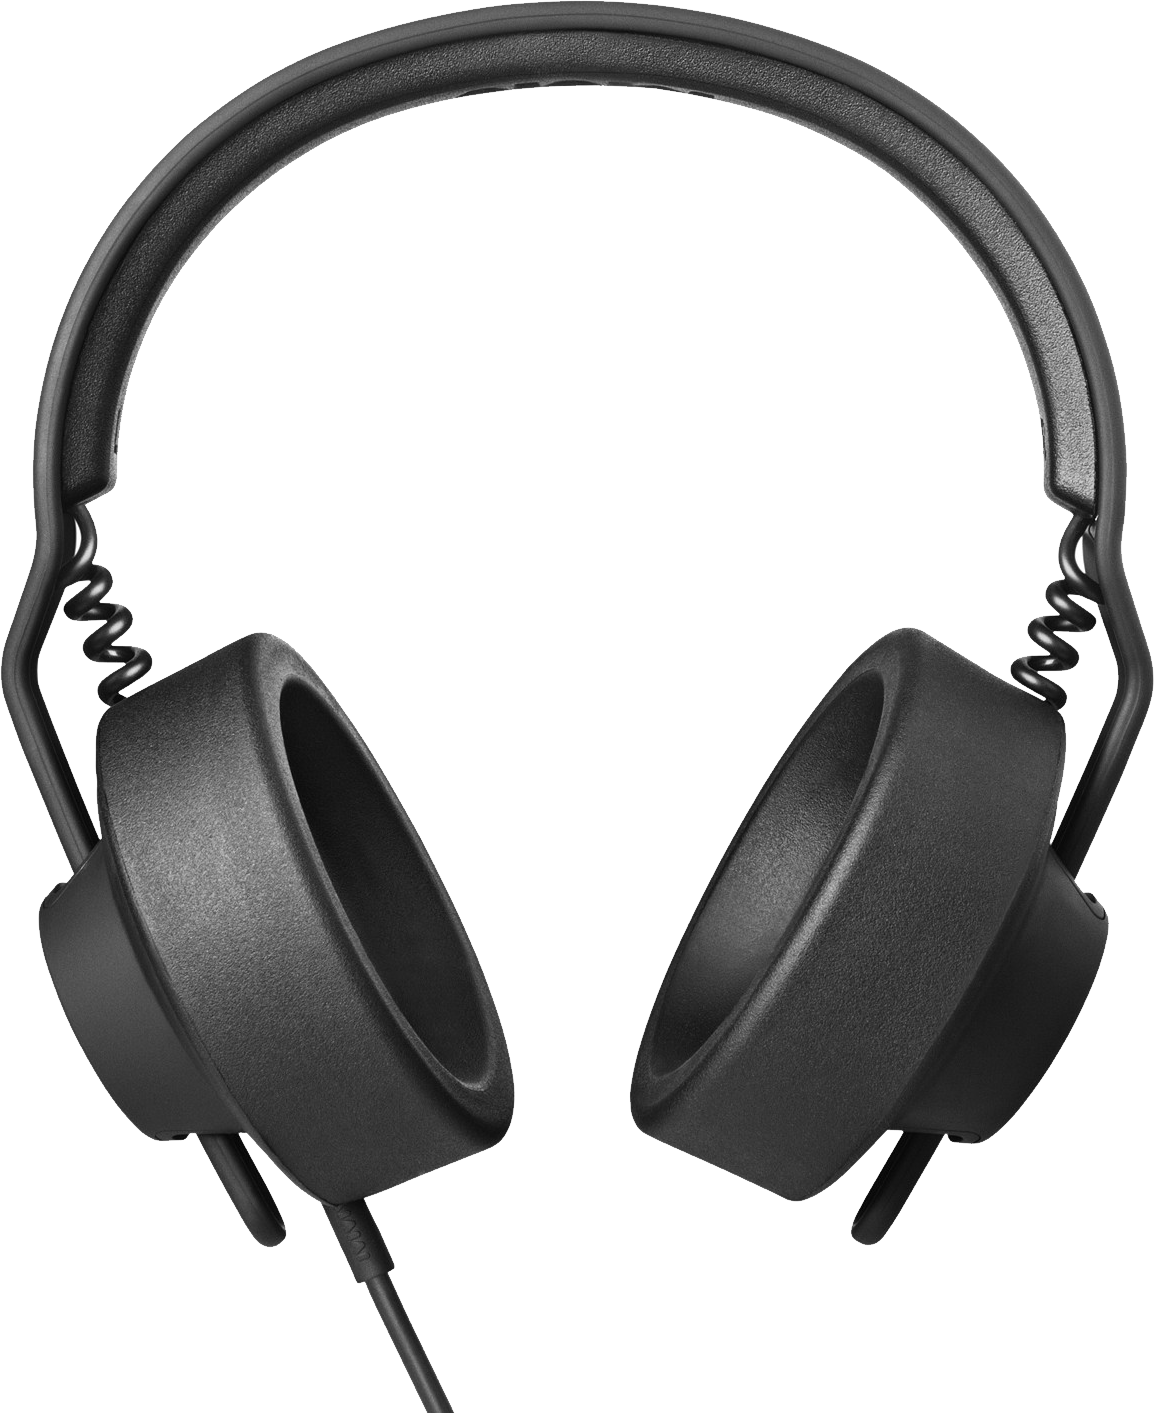headphone: (25, 12, 1154, 1325)
